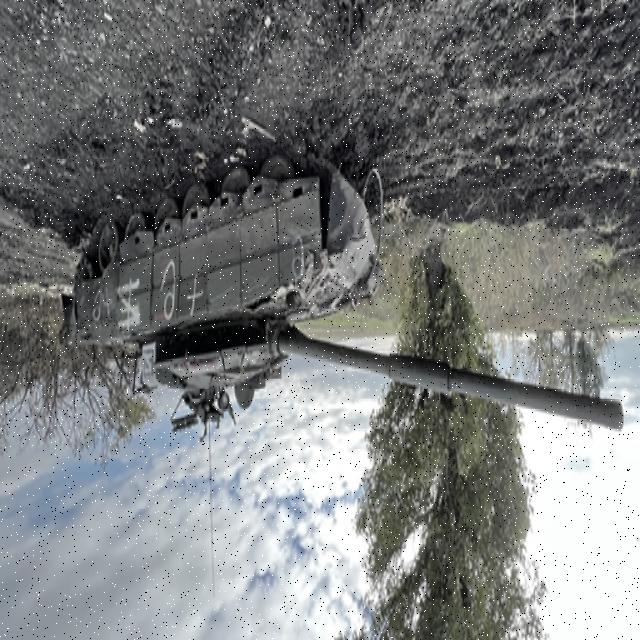TANK: (64, 147, 626, 449)
